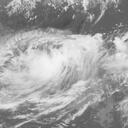cyclone: (33, 31, 109, 87)
